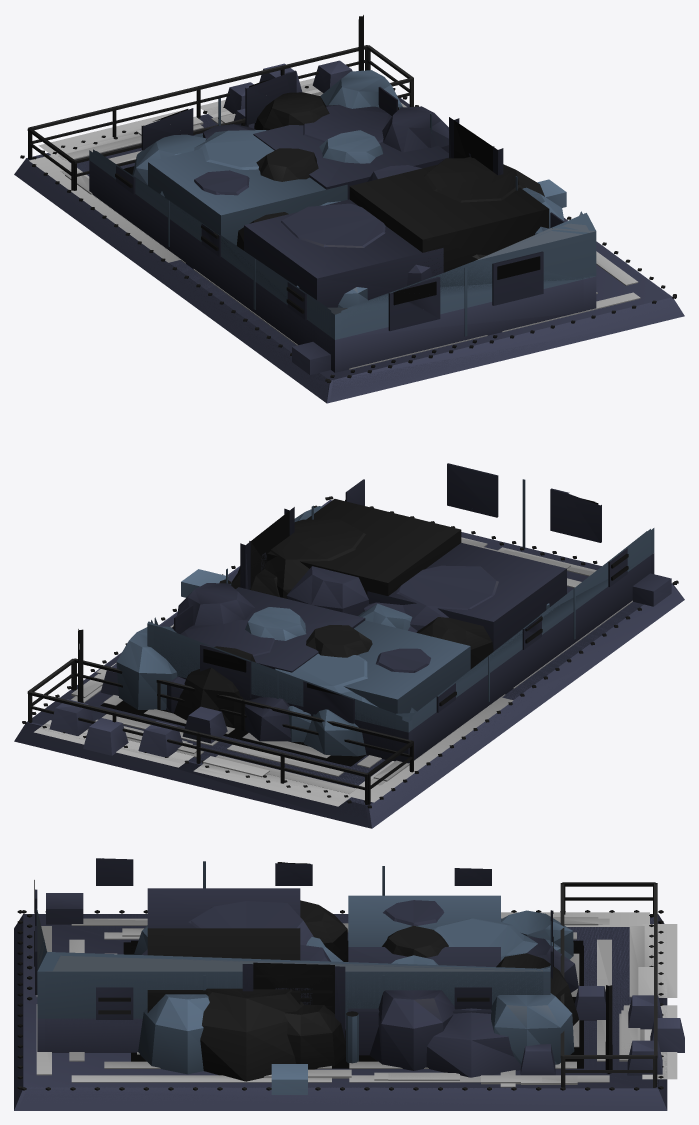
The model's file is veyran_barracks_heavily_damaged.glb.
The picture shows the model from 3 angles, top to bottom: view 1: azimuth 30°, elevation 25°; view 2: azimuth 150°, elevation 25°; view 3: azimuth 270°, elevation 25°; orthographic projection. The views are drawn at different scales.
Visible parts, largest first — view 1: body (×3); view 2: body (×3); view 3: body (×3).
Part boxes in pixels (x1=…): body (×3): x1=14, y1=15, x2=684, y2=403; body (×3): x1=14, y1=463, x2=684, y2=828; body (×3): x1=14, y1=858, x2=684, y2=1110.
Bounding box in the file's own units: 7.54 × 2.21 × 11.5.
